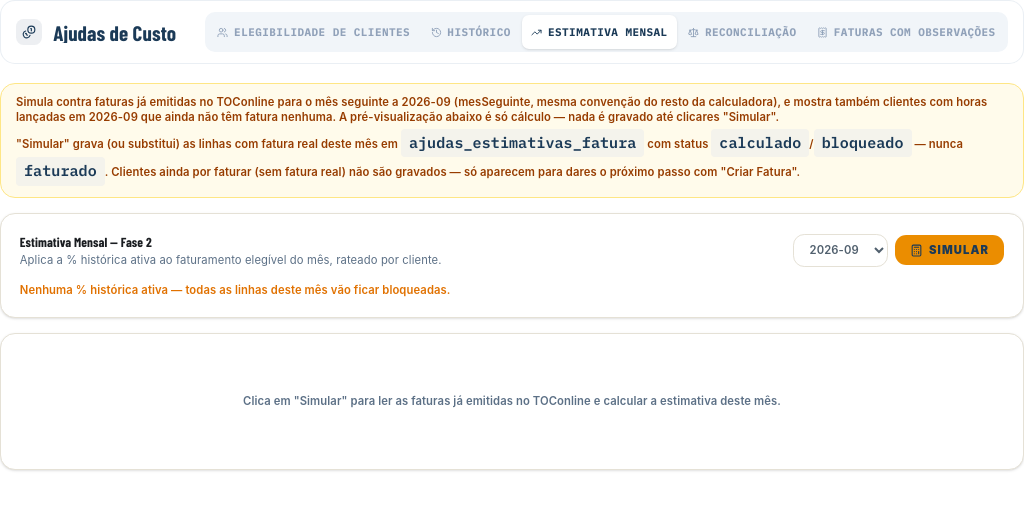
Test: EstimativaMensalTab — Fase 2a com faturas reais do TOConline › "Simular" busca faturas via /api/toconline/relatorio e mostra o fatura_id real na pré-visualização
The width and height of the screenshot is (1024, 514).
Click the button "Simular".
click(950, 250)  # box [895,235,1004,265]
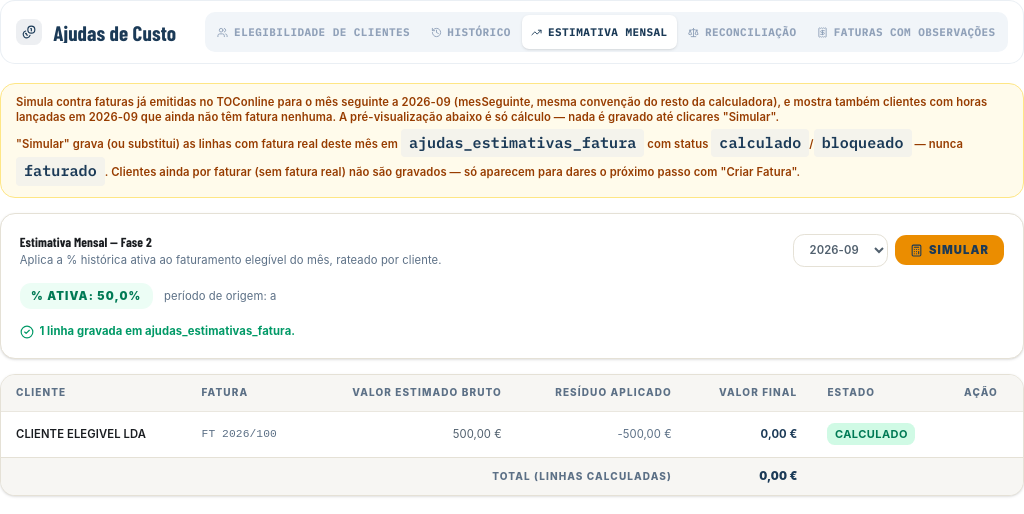
Expected: the text "FT 2026/100" is shown, [187,412,309,457]
